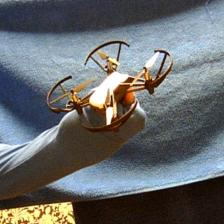drone: (44, 36, 174, 138)
